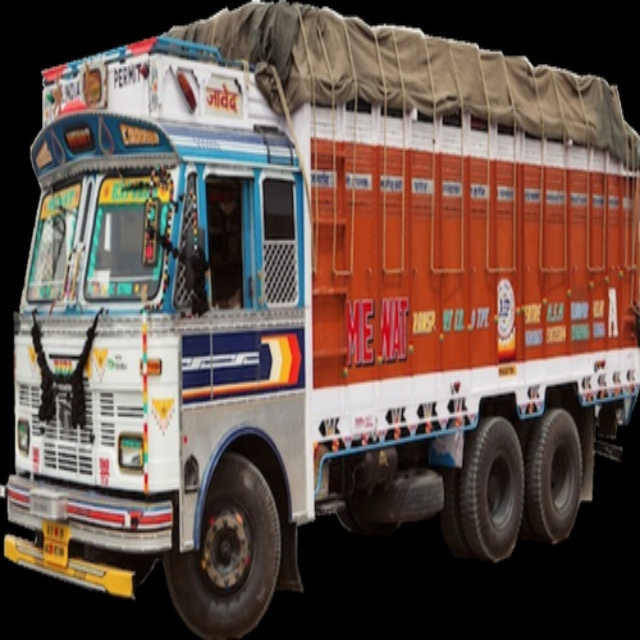Truck: (1, 2, 640, 640)
